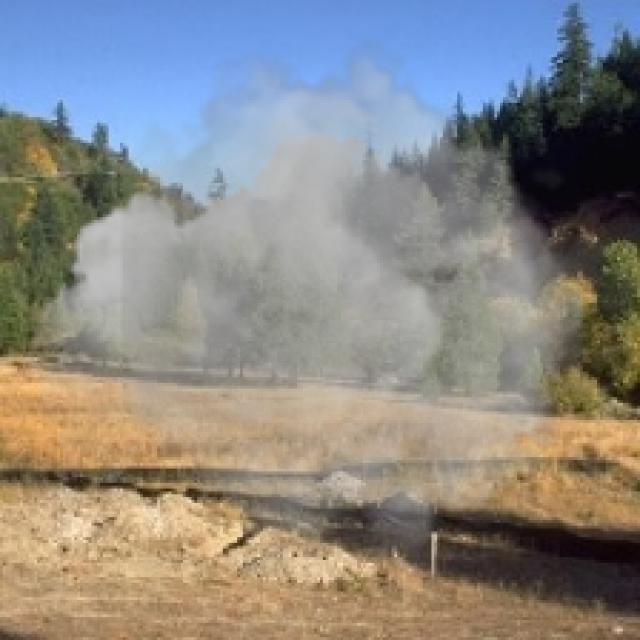Smoke: (28, 34, 583, 572)
